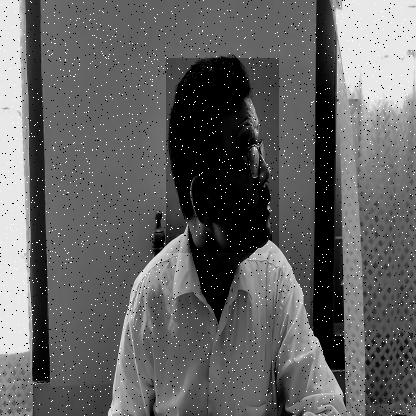Distracted: (166, 58, 279, 253)
